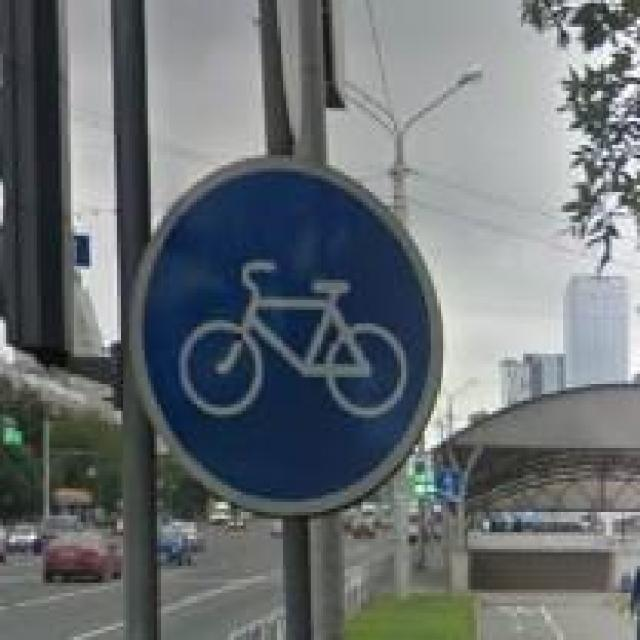bicycle: (126, 155, 446, 519)
